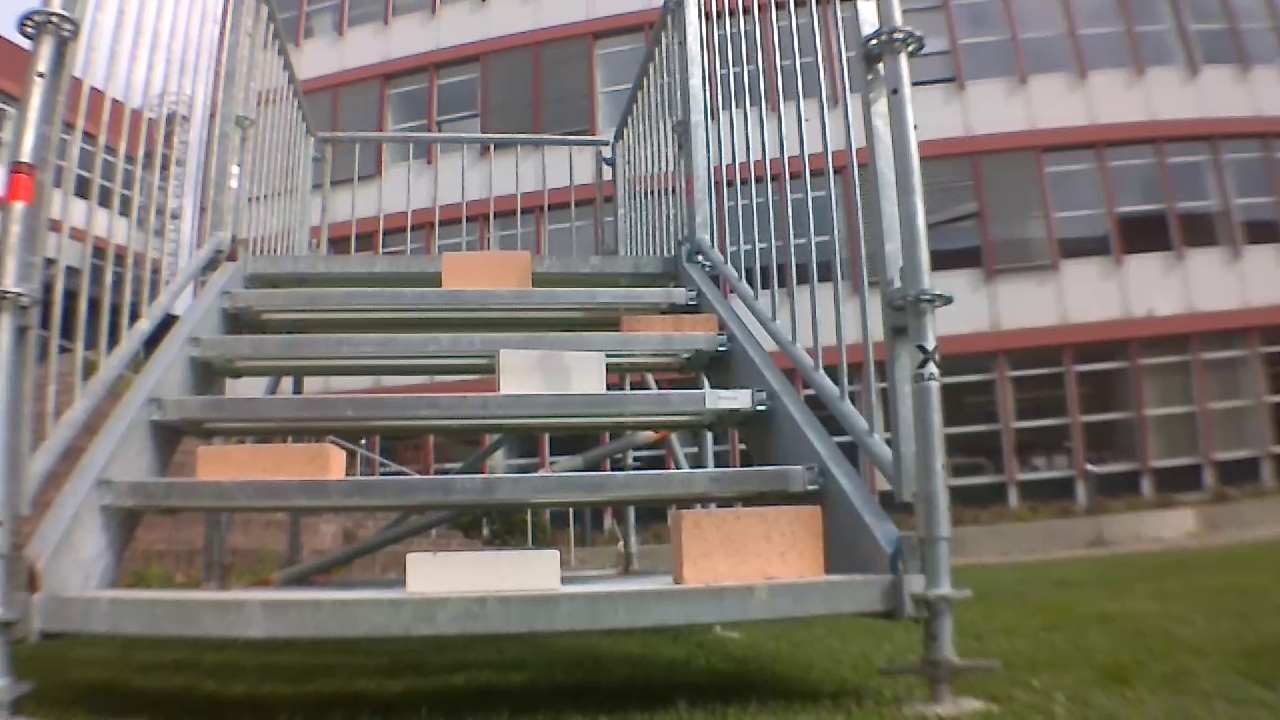brick: (665, 500, 830, 594), (403, 545, 559, 594), (191, 440, 353, 479), (498, 354, 606, 391), (439, 251, 534, 285), (623, 309, 722, 333)
edge: (31, 577, 898, 638), (101, 462, 828, 510), (147, 389, 773, 430), (186, 330, 734, 360), (214, 287, 705, 314), (245, 252, 675, 273)
stairs: (0, 0, 948, 674)
steps: (25, 256, 892, 643)
